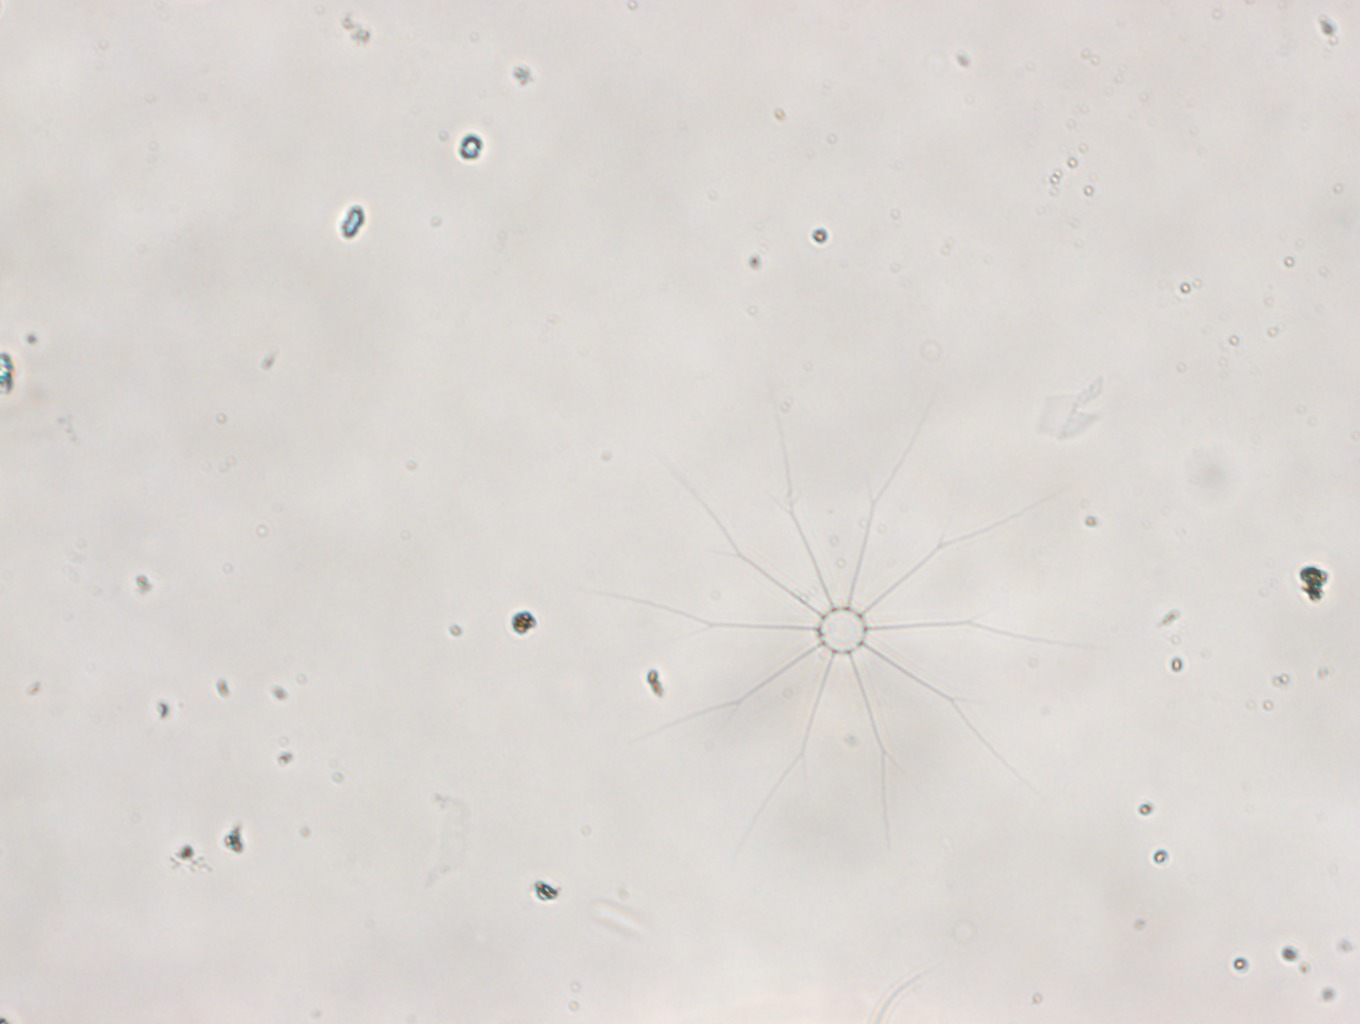bacteriastrum: (592, 376, 1091, 857)
